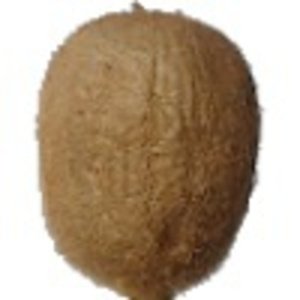kiwi: (35, 1, 263, 300)
